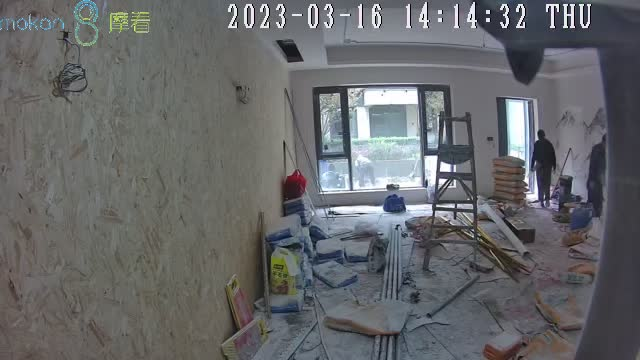people: (532, 129, 556, 206)
window: (313, 85, 454, 193), (503, 96, 532, 187)
